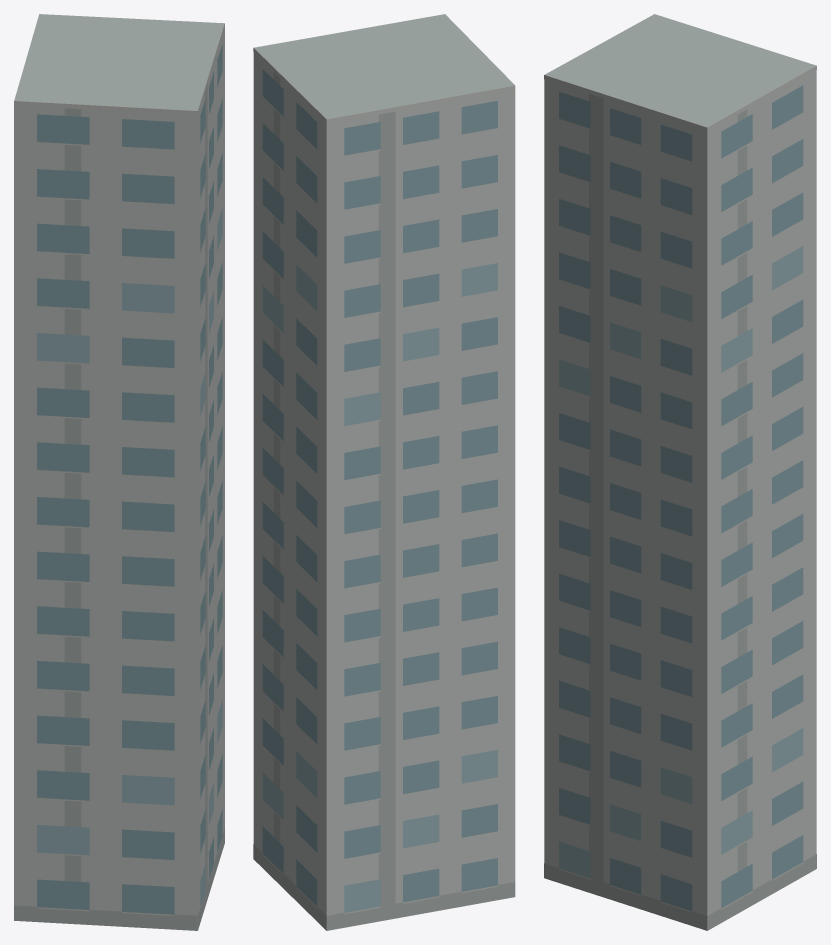
The model's file is survey-upis-32729740.glb.
The picture shows the model from 3 angles, left to right: view 1: azimuth 30°, elevation 25°; view 2: azimuth 150°, elevation 25°; view 3: azimuth 270°, elevation 25°; orthographic projection. The views are drawn at different scales.
Parts seen in each view (by area): view 1: survey-upis-32729740.tmp; view 2: survey-upis-32729740.tmp; view 3: survey-upis-32729740.tmp.
Part boxes in pixels (left/top/right/bottom): survey-upis-32729740.tmp: left=14, top=14, right=224, bottom=930; survey-upis-32729740.tmp: left=253, top=14, right=515, bottom=930; survey-upis-32729740.tmp: left=544, top=14, right=816, bottom=930.
Bounding box in the file's own units: 13.89 × 45.75 × 14.08.
